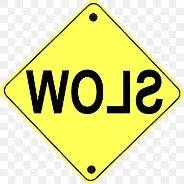Slow: (5, 3, 180, 180)
